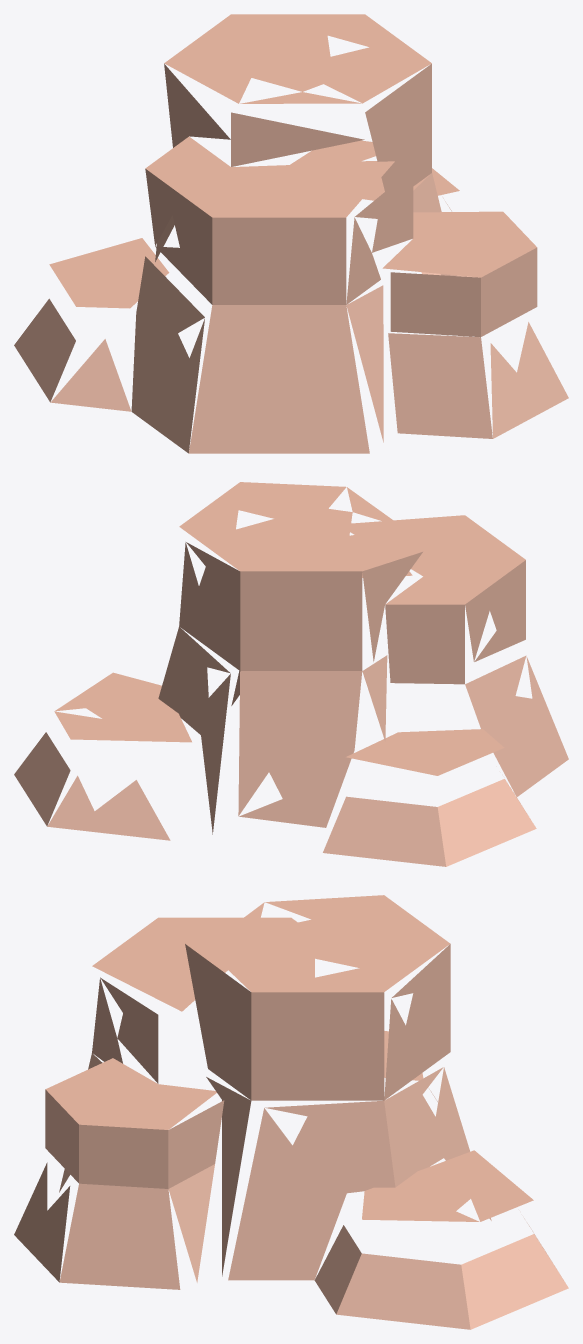
The model's file is rock_crystalsLargeB_lod1.glb.
3 renders of one model, top to bottom at view 1: azimuth 30°, elevation 25°; view 2: azimuth 150°, elevation 25°; view 3: azimuth 270°, elevation 25°, orthographic. The views are drawn at different scales.
Parts seen in each view (by area): view 1: rock_crystalsLargeB.002; view 2: rock_crystalsLargeB.002; view 3: rock_crystalsLargeB.002.
Part boxes in pixels (bbox=[...]): rock_crystalsLargeB.002: bbox=[14, 14, 568, 453]; rock_crystalsLargeB.002: bbox=[14, 482, 568, 866]; rock_crystalsLargeB.002: bbox=[14, 895, 568, 1329].
Size of the model in its own units: 0.9393 by 0.5048 by 0.9278.
